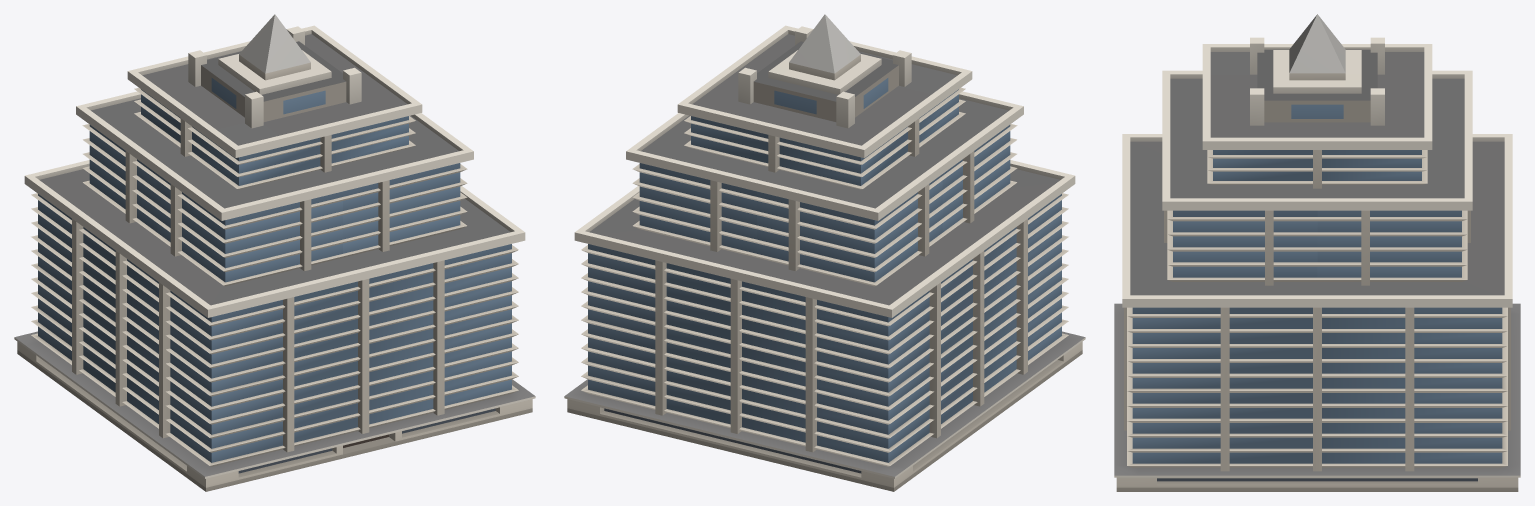
Rendered from building-tower-spire.glb.
The picture shows the model from 3 angles, left to right: view 1: azimuth 30°, elevation 25°; view 2: azimuth 150°, elevation 25°; view 3: azimuth 270°, elevation 25°; orthographic projection. The views are drawn at different scales.
Visible parts, largest first — view 1: Building; view 2: Building; view 3: Building.
Part boxes in pixels (x1,y1,x2,y2): Building: (14, 14, 535, 491); Building: (564, 14, 1085, 491); Building: (1114, 14, 1520, 491).
Size of the model in its own units: 1.01 by 1.08 by 1.01.
